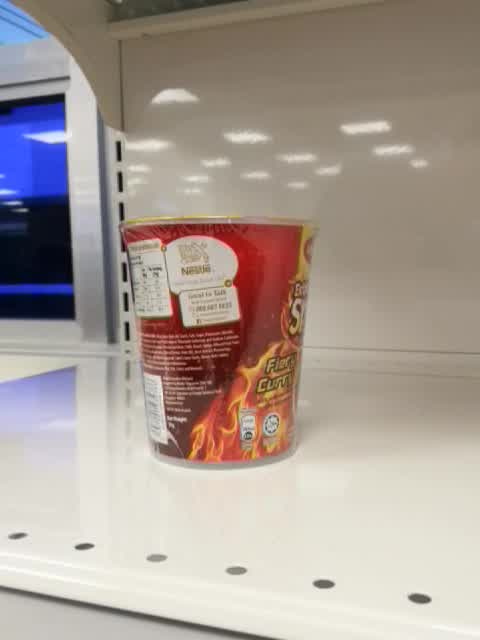maggi: (117, 215, 320, 471)
